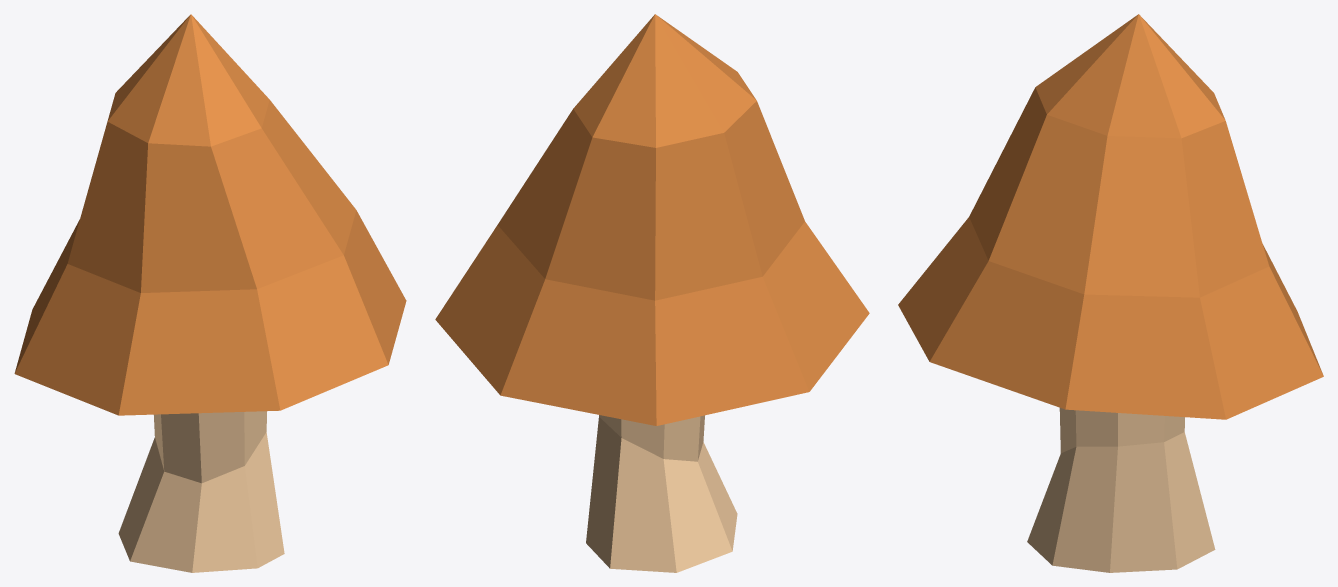
File: foilage-shroom-2.gltf
3 views of the same model, side by side, from view 1: azimuth 30°, elevation 25°; view 2: azimuth 150°, elevation 25°; view 3: azimuth 270°, elevation 25° (orthographic).
Parts seen in each view (by area): view 1: Mushroom2; view 2: Mushroom2; view 3: Mushroom2.
Part boxes in pixels (bbox=[...]): Mushroom2: bbox=[14, 14, 406, 572]; Mushroom2: bbox=[435, 14, 869, 572]; Mushroom2: bbox=[898, 14, 1323, 572].
Size of the model in its own units: 0.5566 by 0.8134 by 0.5899.
